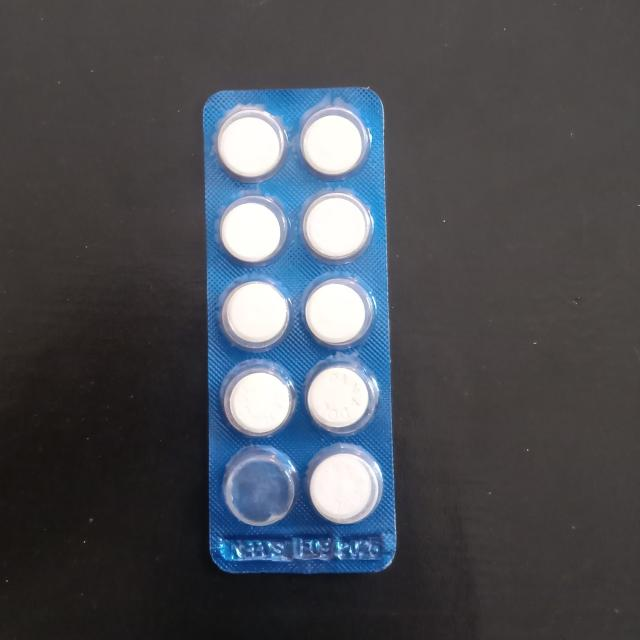defect: (211, 440, 300, 534)
